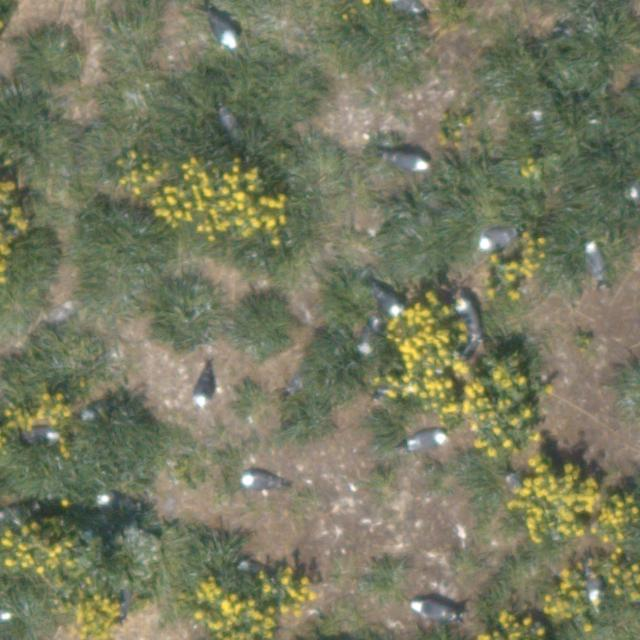umineko: (413, 602, 456, 622), (212, 16, 238, 46), (481, 228, 516, 249), (390, 154, 426, 172), (406, 431, 442, 449), (585, 245, 603, 280), (374, 291, 400, 315), (232, 559, 268, 576), (242, 472, 276, 489), (195, 374, 213, 404), (457, 301, 477, 328), (359, 320, 377, 350), (586, 570, 600, 601), (392, 0, 419, 13), (32, 430, 59, 442), (100, 492, 121, 506), (0, 610, 9, 623)
